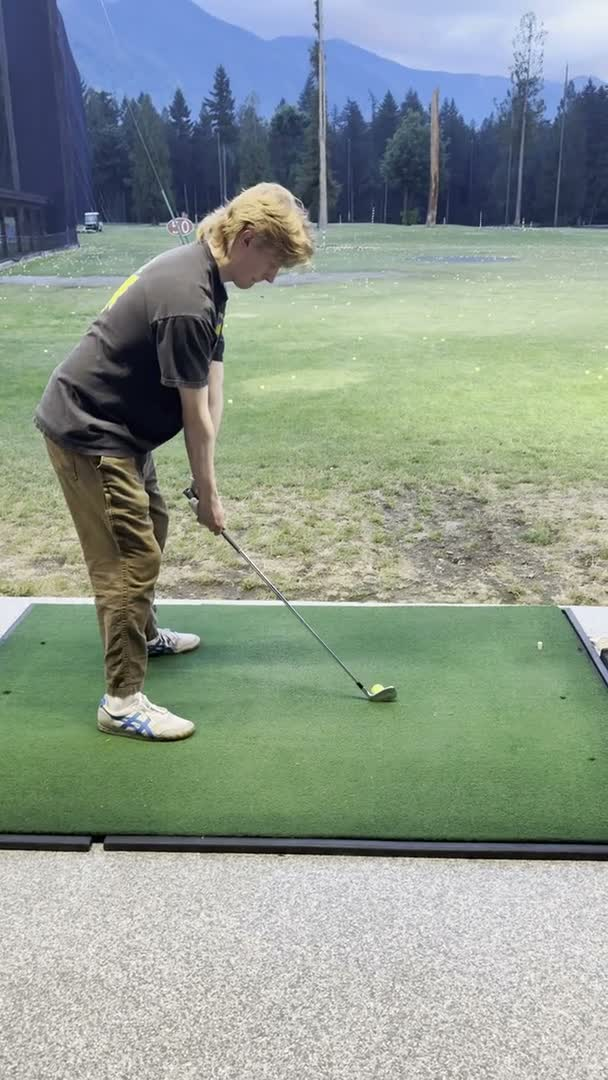Golf Ball: (370, 685, 388, 698)
